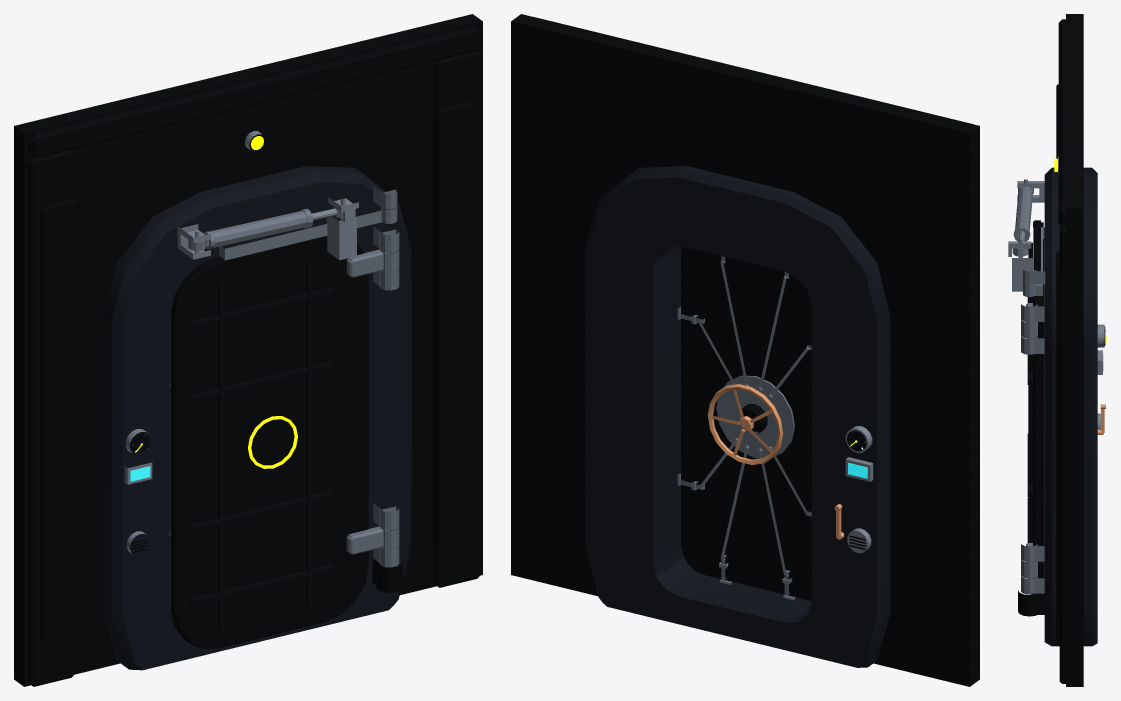
3 renders of one model, left to right at view 1: azimuth 30°, elevation 25°; view 2: azimuth 150°, elevation 25°; view 3: azimuth 270°, elevation 25°, orthographic. The views are drawn at different scales.
Visible parts, largest first — view 1: bulkhead_frame, bulkhead_leaf_shell, bulkhead_frame_collar, bulkhead_Rib_back, bulkhead_HingeHeavy_leaf, bulkhead_HingeHeavy_frame, bulkhead_Damper_body, bulkhead_Davit_arm, bulkhead_leaf_damper_mount, bulkhead_Actuator_housing, bulkhead_damper_mount; view 2: bulkhead_frame, bulkhead_frame_collar, bulkhead_leaf_shell, bulkhead_LockWheel, bulkhead_OverrideOrange_Handwheel; view 3: bulkhead_frame, bulkhead_frame_collar, bulkhead_leaf_shell, bulkhead_HingeHeavy_frame, bulkhead_Rib_back, bulkhead_Damper_body, bulkhead_leaf_damper_mount, bulkhead_HingeHeavy_leaf, bulkhead_Actuator_housing, bulkhead_Davit_arm, bulkhead_damper_mount, bulkhead_Gauge_housing_back (+3 smaller).
Part boxes in pixels (x1,y1,x2,y2): bulkhead_frame: [14, 14, 482, 686]; bulkhead_leaf_shell: [171, 236, 368, 648]; bulkhead_frame_collar: [103, 166, 411, 670]; bulkhead_Rib_back: [189, 261, 333, 628]; bulkhead_HingeHeavy_leaf: [346, 249, 399, 554]; bulkhead_HingeHeavy_frame: [373, 226, 399, 567]; bulkhead_Damper_body: [188, 208, 313, 250]; bulkhead_Davit_arm: [219, 207, 397, 260]; bulkhead_leaf_damper_mount: [326, 197, 358, 260]; bulkhead_Actuator_housing: [372, 558, 407, 592]; bulkhead_damper_mount: [177, 224, 210, 259]; bulkhead_frame: [511, 14, 979, 686]; bulkhead_frame_collar: [585, 166, 890, 667]; bulkhead_leaf_shell: [681, 246, 811, 600]; bulkhead_LockWheel: [716, 375, 794, 458]; bulkhead_OverrideOrange_Handwheel: [707, 384, 783, 464]; bulkhead_frame: [1056, 14, 1083, 686]; bulkhead_frame_collar: [1044, 167, 1097, 646]; bulkhead_leaf_shell: [1033, 220, 1043, 578]; bulkhead_HingeHeavy_frame: [1021, 304, 1044, 594]; bulkhead_Rib_back: [1027, 242, 1032, 578]; bulkhead_Damper_body: [1013, 186, 1033, 241]; bulkhead_leaf_damper_mount: [1008, 239, 1033, 291]; bulkhead_HingeHeavy_leaf: [1021, 303, 1037, 578]; bulkhead_Actuator_housing: [1018, 590, 1044, 616]; bulkhead_Davit_arm: [1023, 227, 1042, 297]; bulkhead_damper_mount: [1017, 179, 1044, 202]; bulkhead_Gauge_housing_back: [1097, 324, 1104, 374].
Size of what is drawn, in the model's own units: 2.6 by 3 by 0.557.
11 materials, 5 textured.
